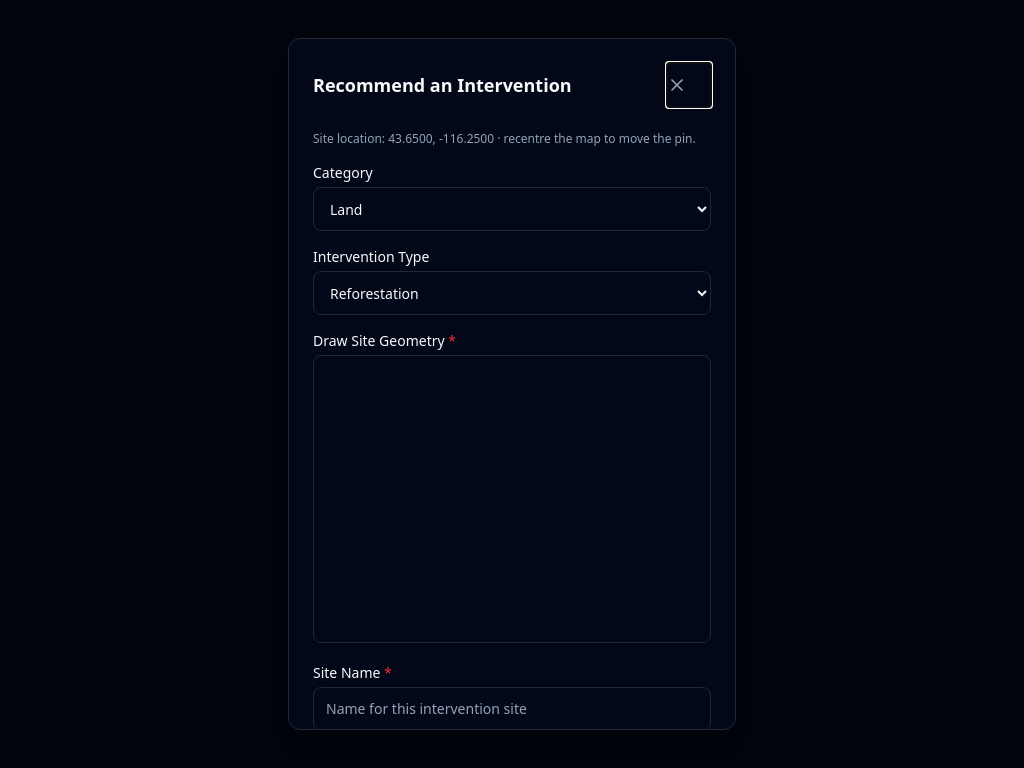
InterventionSubmitModal › shows an inline error for an under-3-vertex / unclosed polygon and keeps submit disabled
Type "Ridge silvopasture plot" into the field labelled "Site Name *".
click(512, 709); type("Ridge silvopasture plot")  # box [313,687,711,731]
(page scrolled)
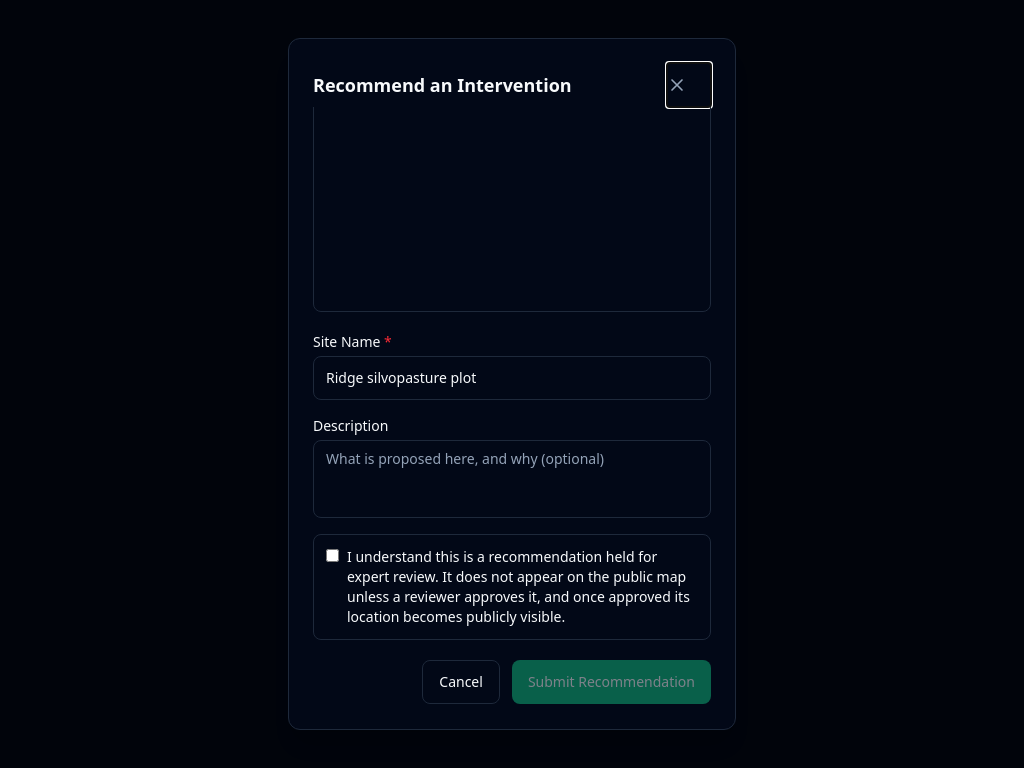
Click the checkbox labelled "I understand this is a recommendation".
click(332, 556)  # box [326,549,339,562]
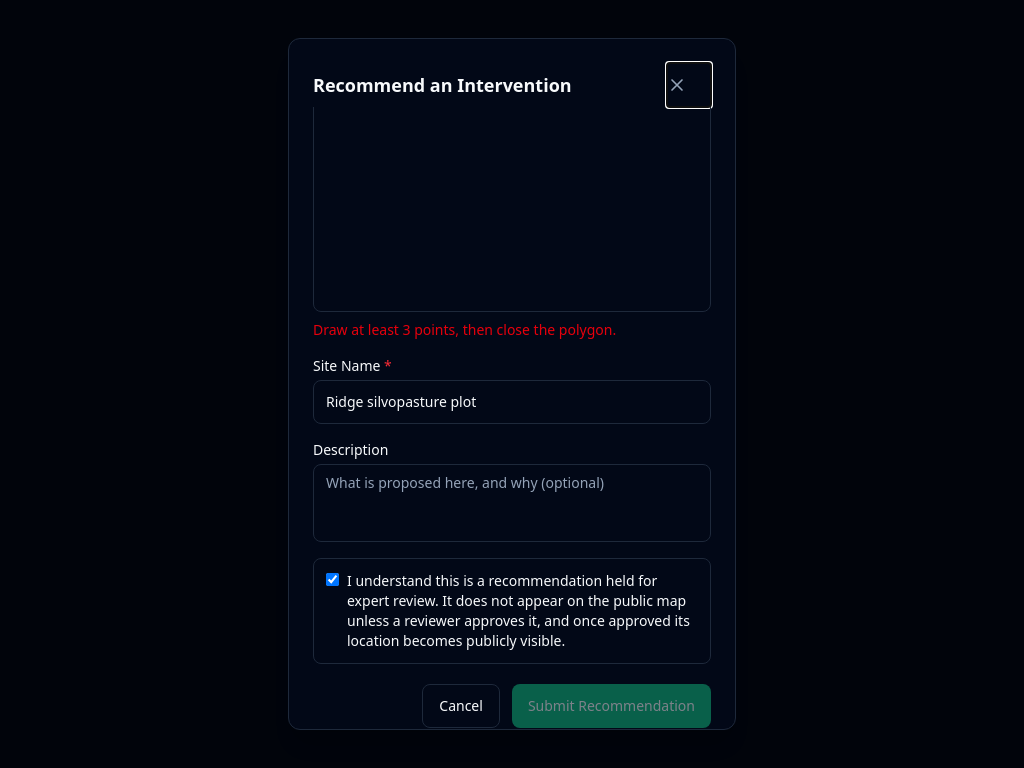
Expected: the button "Submit Recommendation" is disabled, [512,684,711,728]
Expected: the message reads "Draw at least 3 points, then close the polygon.", [313,320,616,339]
